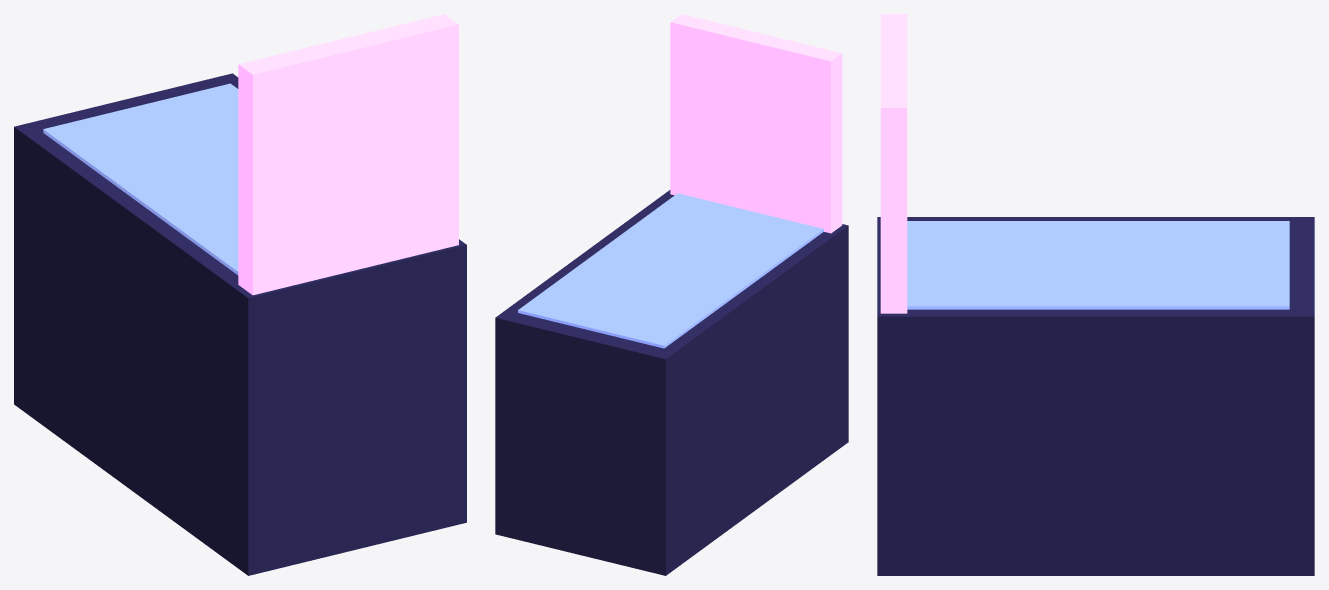
The model's file is pinball.glb.
3 views of the same model, side by side, from view 1: azimuth 30°, elevation 25°; view 2: azimuth 150°, elevation 25°; view 3: azimuth 270°, elevation 25° (orthographic). The views are drawn at different scales.
Visible parts, largest first — view 1: Box1, Box3, Box2; view 2: Box1, Box3, Box2; view 3: Box1, Box2, Box3.
Boxes of the visible parts, x1,y1,x2,y2 form: Box1: [14, 73, 466, 575]; Box3: [238, 14, 458, 295]; Box2: [43, 83, 238, 275]; Box1: [495, 190, 848, 575]; Box3: [670, 14, 842, 233]; Box2: [518, 193, 823, 348]; Box1: [877, 217, 1314, 575]; Box2: [907, 221, 1289, 309]; Box3: [880, 14, 907, 313].
Size of the model in its own units: 0.7 by 1.53 by 1.3.
